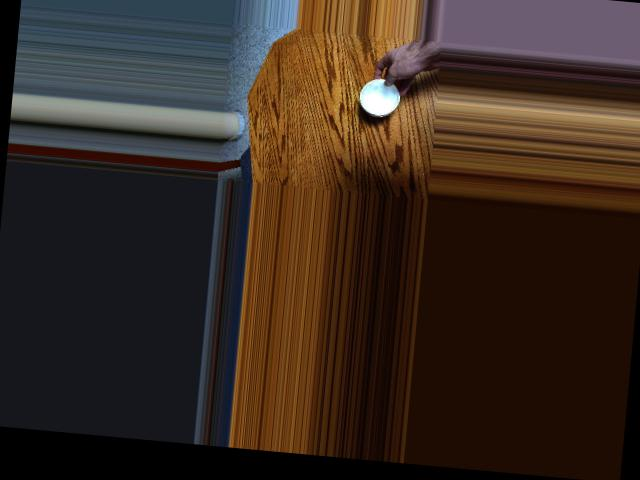cotage: (356, 69, 405, 117)
